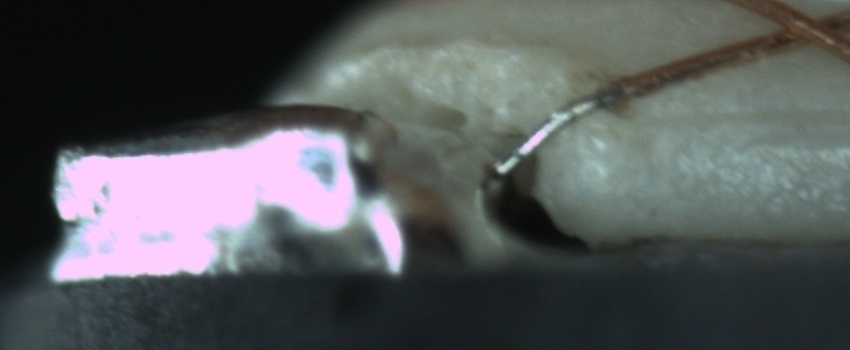CL: (756, 2, 847, 55)
DL: (627, 82, 845, 156)
TS: (499, 83, 634, 178)
TTCW: (499, 63, 678, 179)
